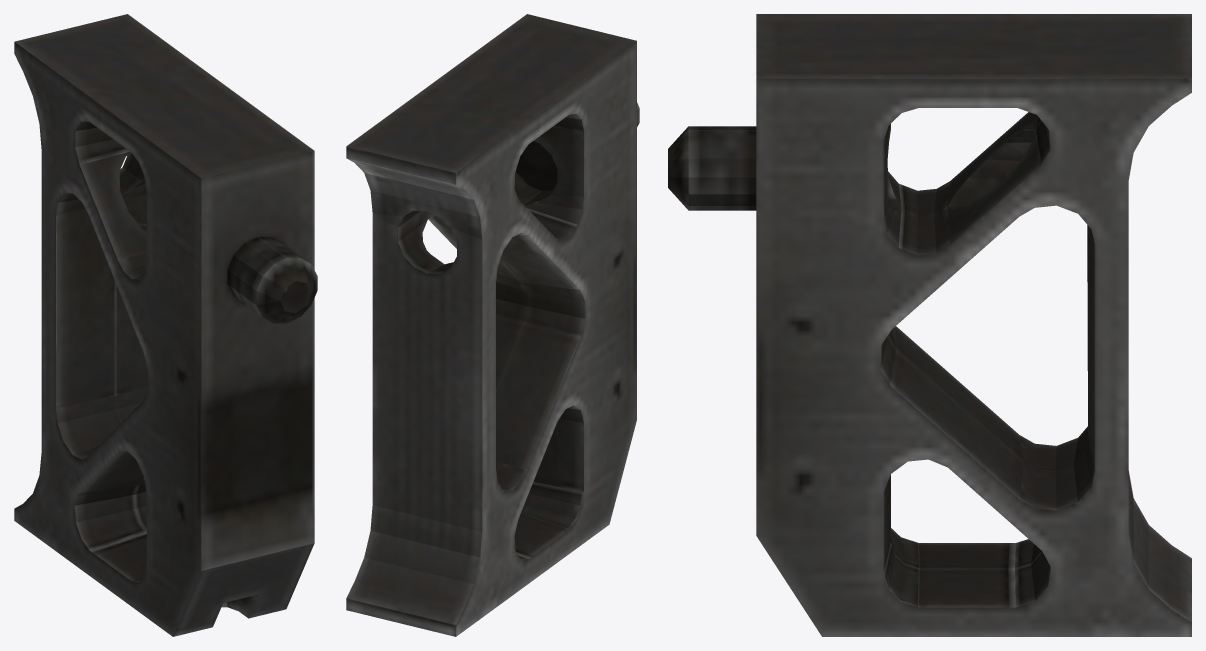
3 views of the same model, side by side, from view 1: azimuth 30°, elevation 25°; view 2: azimuth 150°, elevation 25°; view 3: azimuth 270°, elevation 25° (orthographic). The views are drawn at different scales.
Parts seen in each view (by area): view 1: TW_5ef32e4d1c1fd62aea6a150d_PZ_Import; view 2: TW_5ef32e4d1c1fd62aea6a150d_PZ_Import; view 3: TW_5ef32e4d1c1fd62aea6a150d_PZ_Import.
Part boxes in pixels (x1,y1,x2,y2): TW_5ef32e4d1c1fd62aea6a150d_PZ_Import: (14, 14, 317, 636); TW_5ef32e4d1c1fd62aea6a150d_PZ_Import: (346, 14, 639, 636); TW_5ef32e4d1c1fd62aea6a150d_PZ_Import: (668, 14, 1191, 636).
Size of the model in its own units: 0.00332 by 0.0114 by 0.0134.
Materials: 1 (1 with a texture image).
